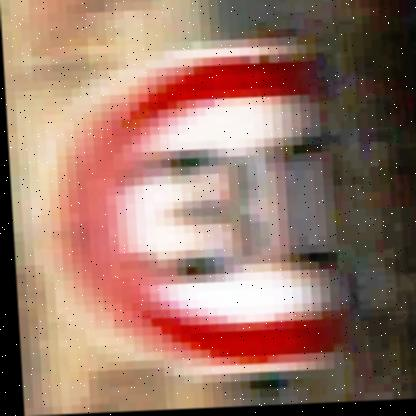Speed Limit -30-: (56, 39, 336, 385)
